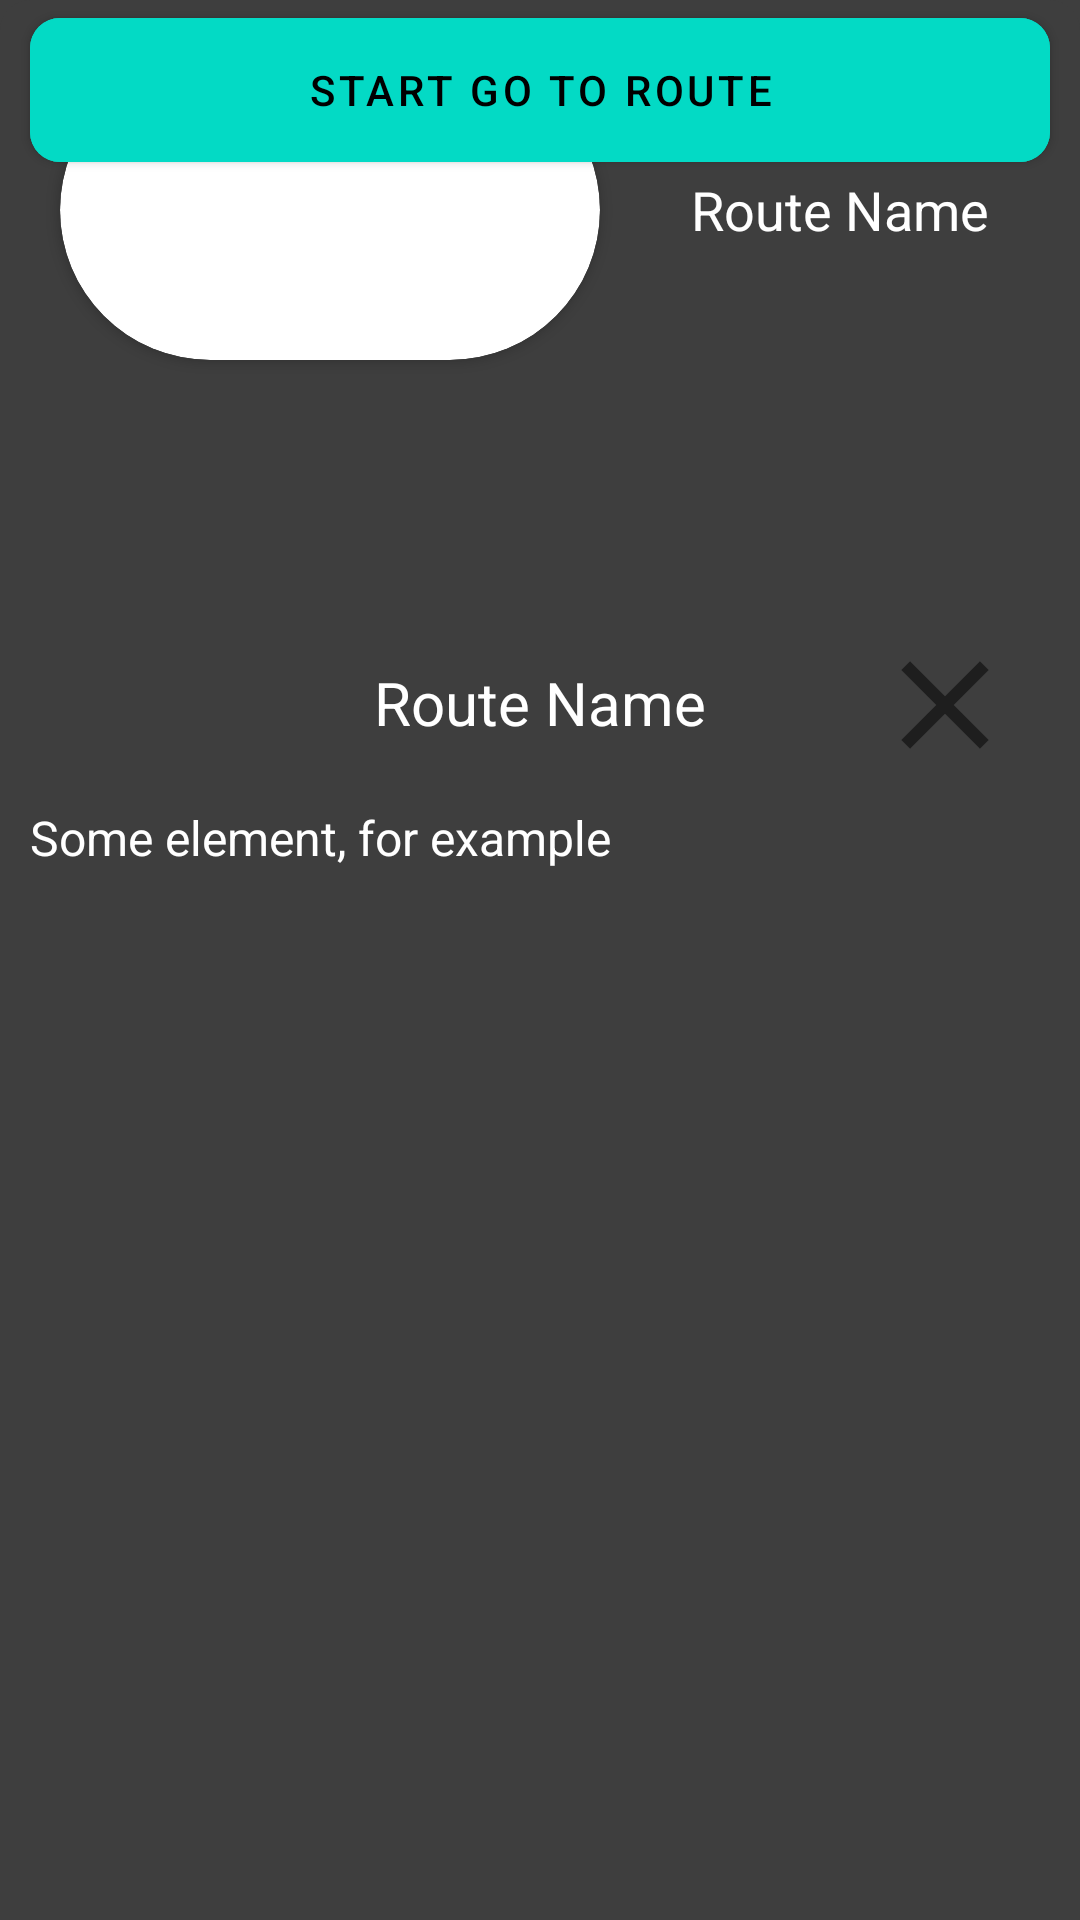

Screen size 1080px×1920px. Icon name, then its center in pixels as (x,y):
close: (945,705)
